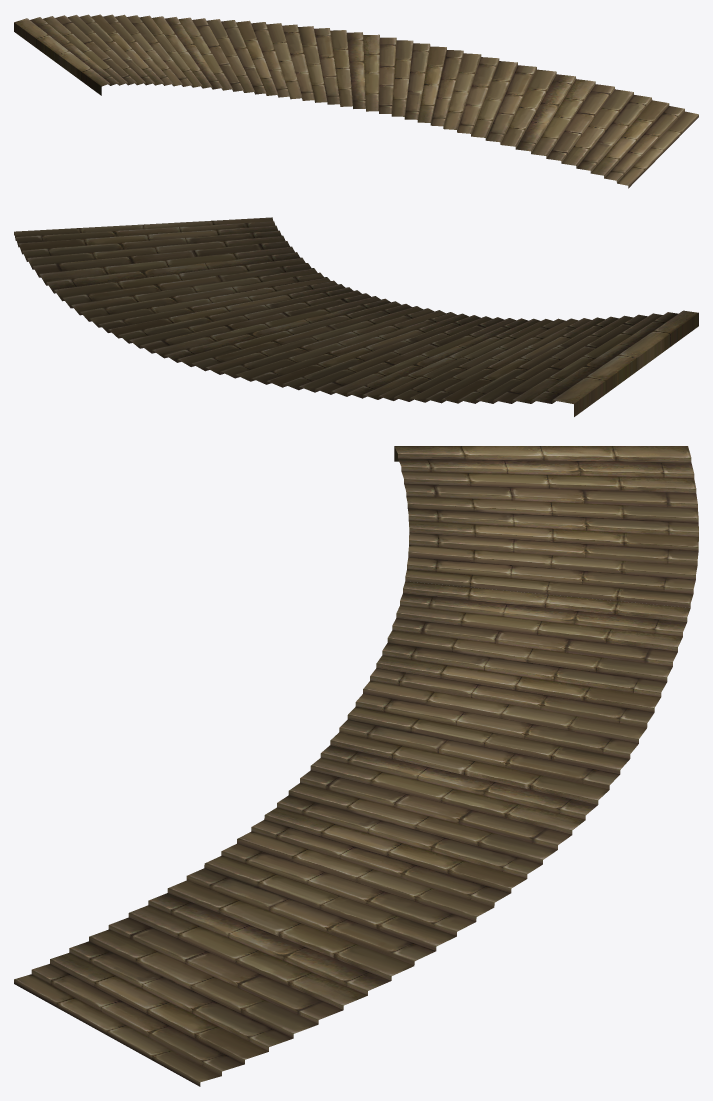
The model's file is Battle04_Road_01.FBX.
3 renders of one model, top to bottom at view 1: azimuth 30°, elevation 25°; view 2: azimuth 150°, elevation 25°; view 3: azimuth 270°, elevation 25°, orthographic. The views are drawn at different scales.
Visible parts, largest first — view 1: Battle04_Road_01; view 2: Battle04_Road_01; view 3: Battle04_Road_01.
Part boxes in pixels (x1,y1,x2,y2): Battle04_Road_01: (14,14,698,188); Battle04_Road_01: (14,217,698,416); Battle04_Road_01: (14,446,698,1086).
Size of the model in its own units: 39.68 by 8.41 by 26.06.
